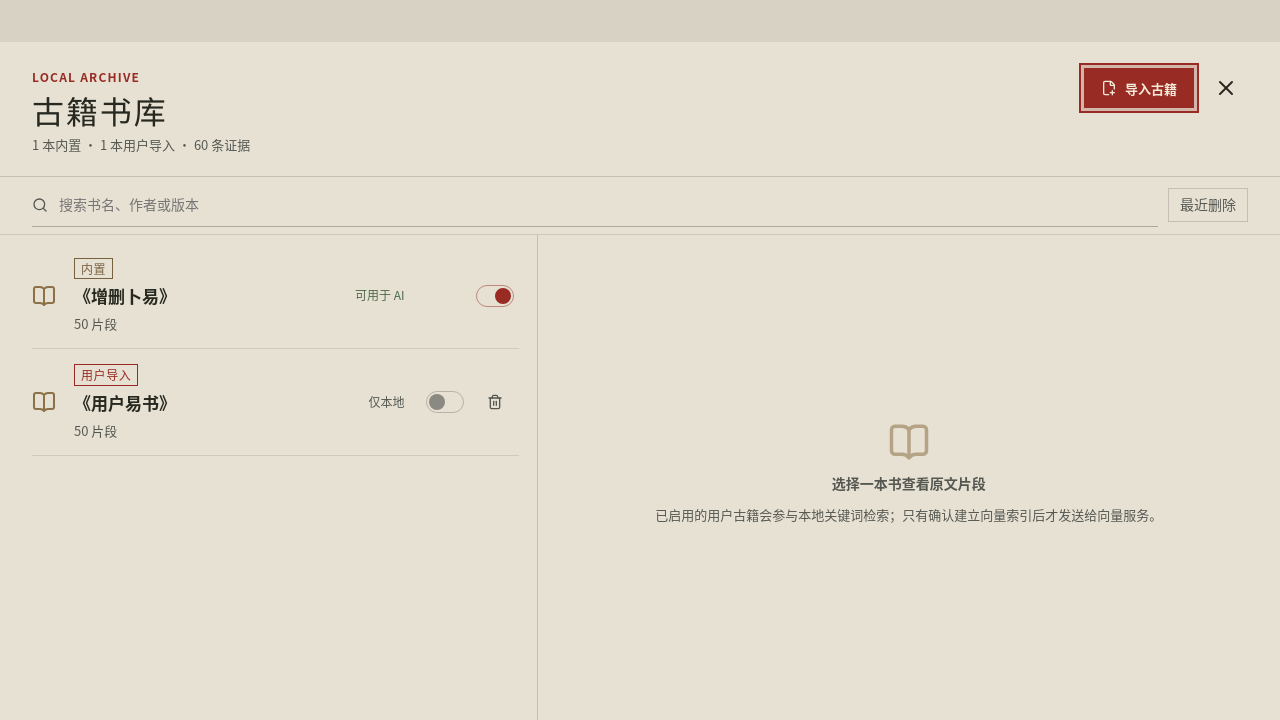
Test case: CorpusLibraryPanel 古籍书库 › 区分内置与用户来源，并按需查看原文片段
Check: the text "《增删卜易》" is shown, box [74,283,176,308]
Check: the text "《用户易书》" is shown, box [74,390,176,415]
Step 1. Click the button "内置 《增删卜易》 50 片段 可用于 AI" → [94, 268], box [32,243,519,348]
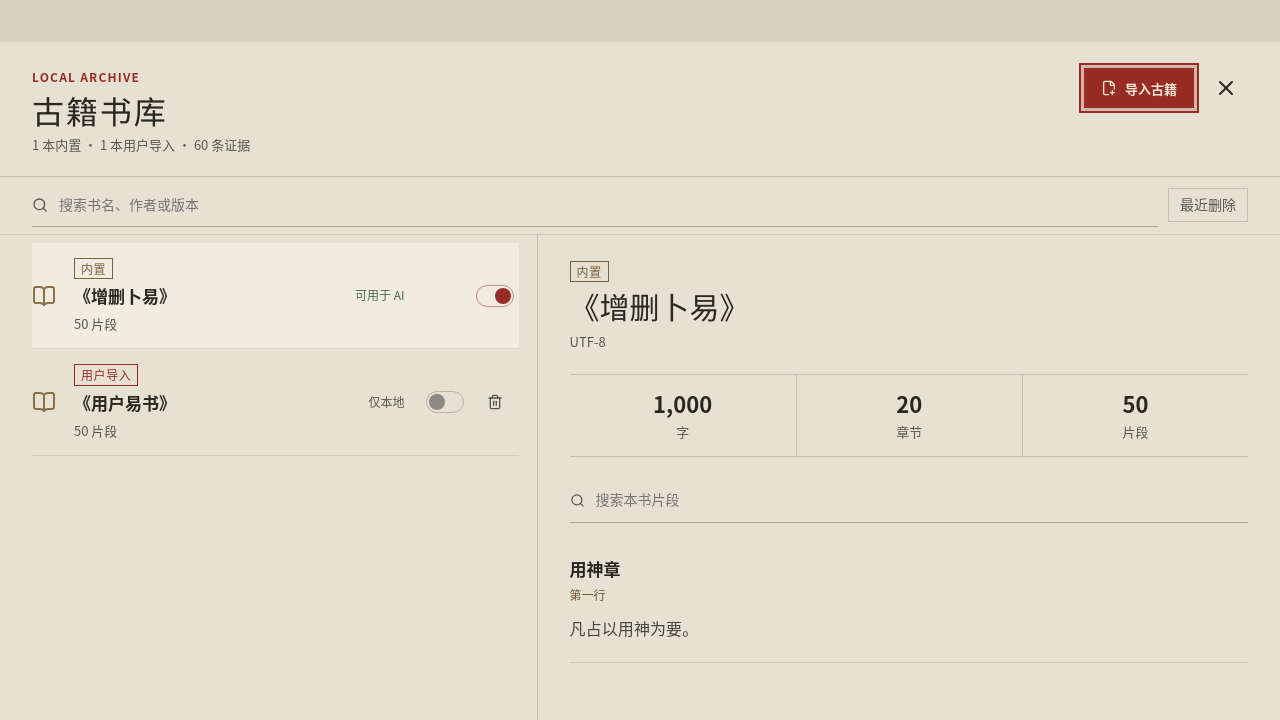
Check: the text "凡占以用神为要。" is shown, box [570,616,698,640]
